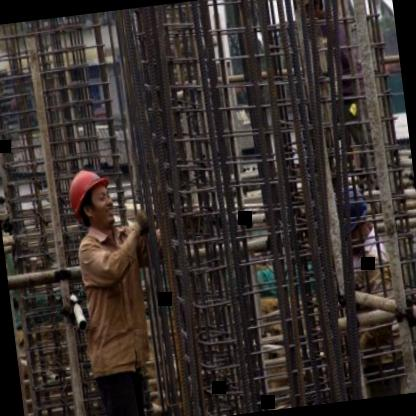helmet: (58, 162, 121, 232), (334, 183, 375, 254)
